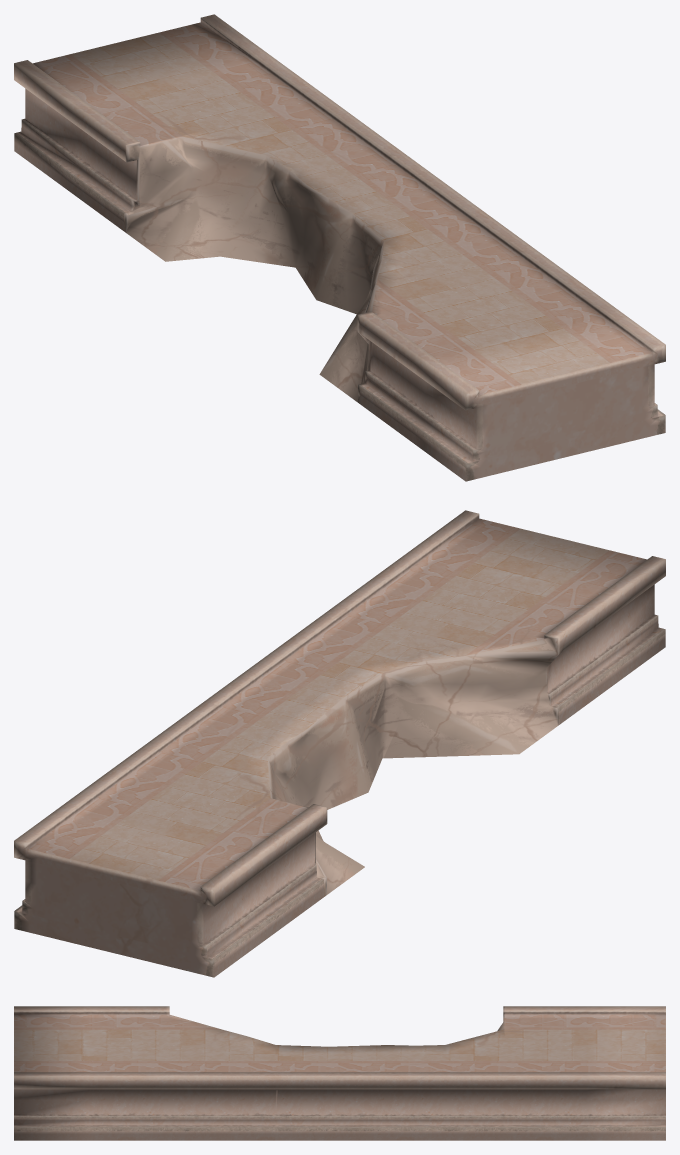
File: 左侧边缺口一格.fbx
3 renders of one model, top to bottom at view 1: azimuth 30°, elevation 25°; view 2: azimuth 150°, elevation 25°; view 3: azimuth 270°, elevation 25°, orthographic. The views are drawn at different scales.
Visible parts, largest first — view 1: 平面.006; view 2: 平面.006; view 3: 平面.006.
Part boxes in pixels (x1=…): 平面.006: x1=14, y1=14, x2=665, y2=481; 平面.006: x1=14, y1=510, x2=665, y2=977; 平面.006: x1=14, y1=1006, x2=665, y2=1140.
Size of the model in its own units: 310 by 130 by 1210.
